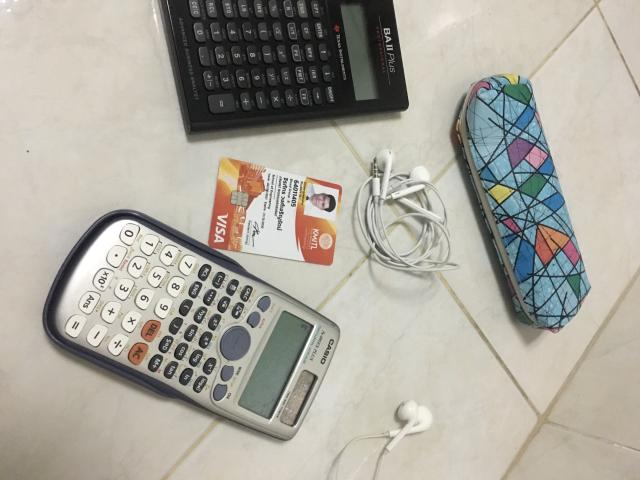wire: (356, 150, 458, 272), (336, 400, 432, 479)
